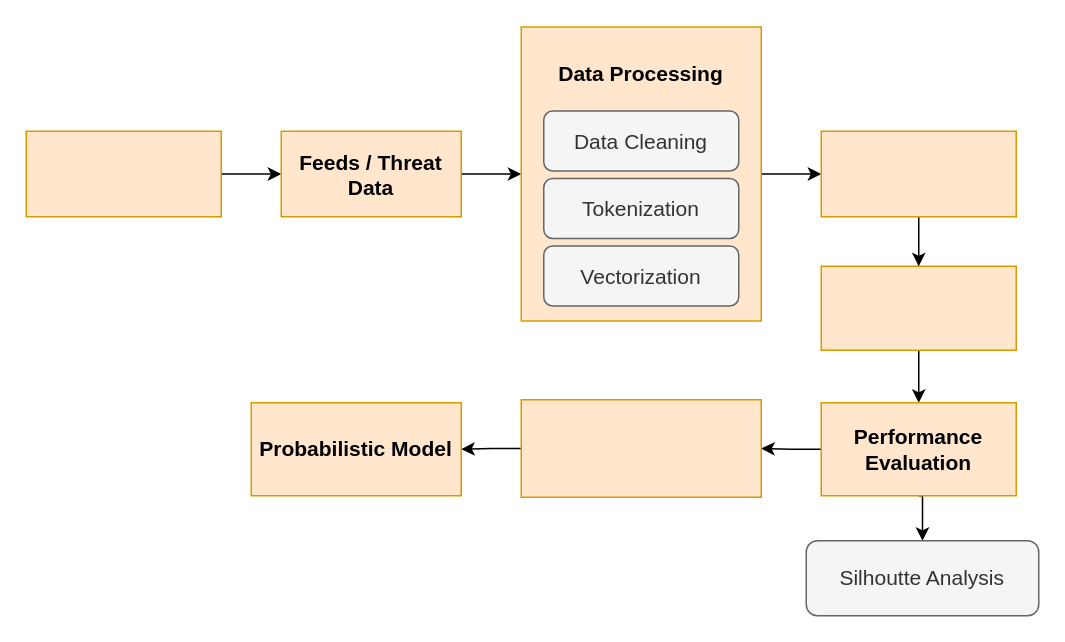
This 1065x642 diagram has some shape labels left out. Here are the shapes that lost their labels. From the top down, the centre of each, then its label:
(123,173): Threat Intelligence
(918,173): Model Selection
(918,307): Keyword Clustering
(640,447): Clusters Analysis using TF-IDF Score
